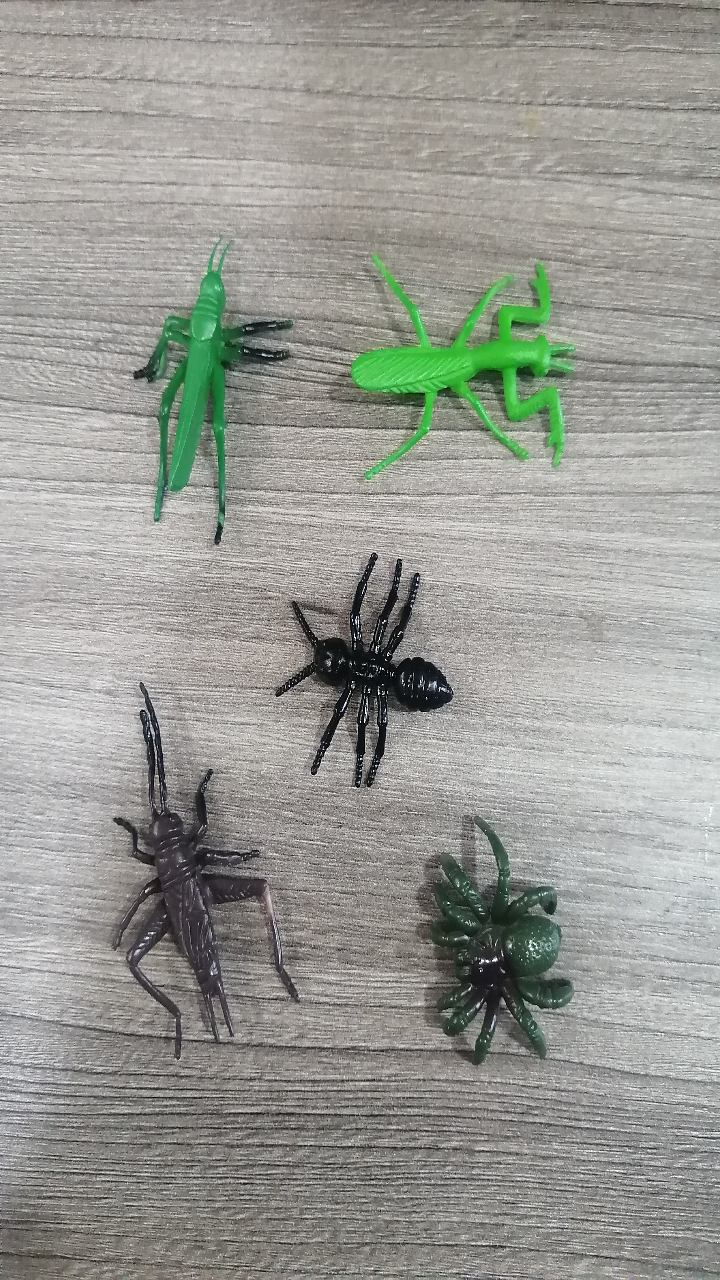intruso: (72, 666, 318, 1055), (335, 220, 600, 508), (83, 215, 286, 552), (383, 789, 606, 1068), (249, 543, 469, 780)
